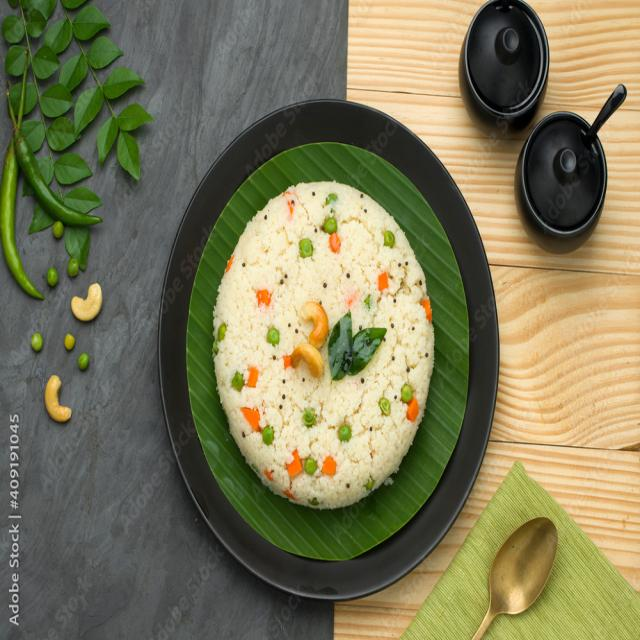UPMA: (212, 181, 433, 507)
